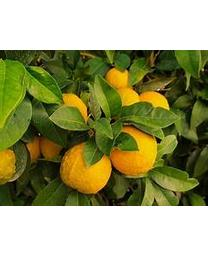lemon: (59, 142, 110, 194), (110, 126, 158, 176)
